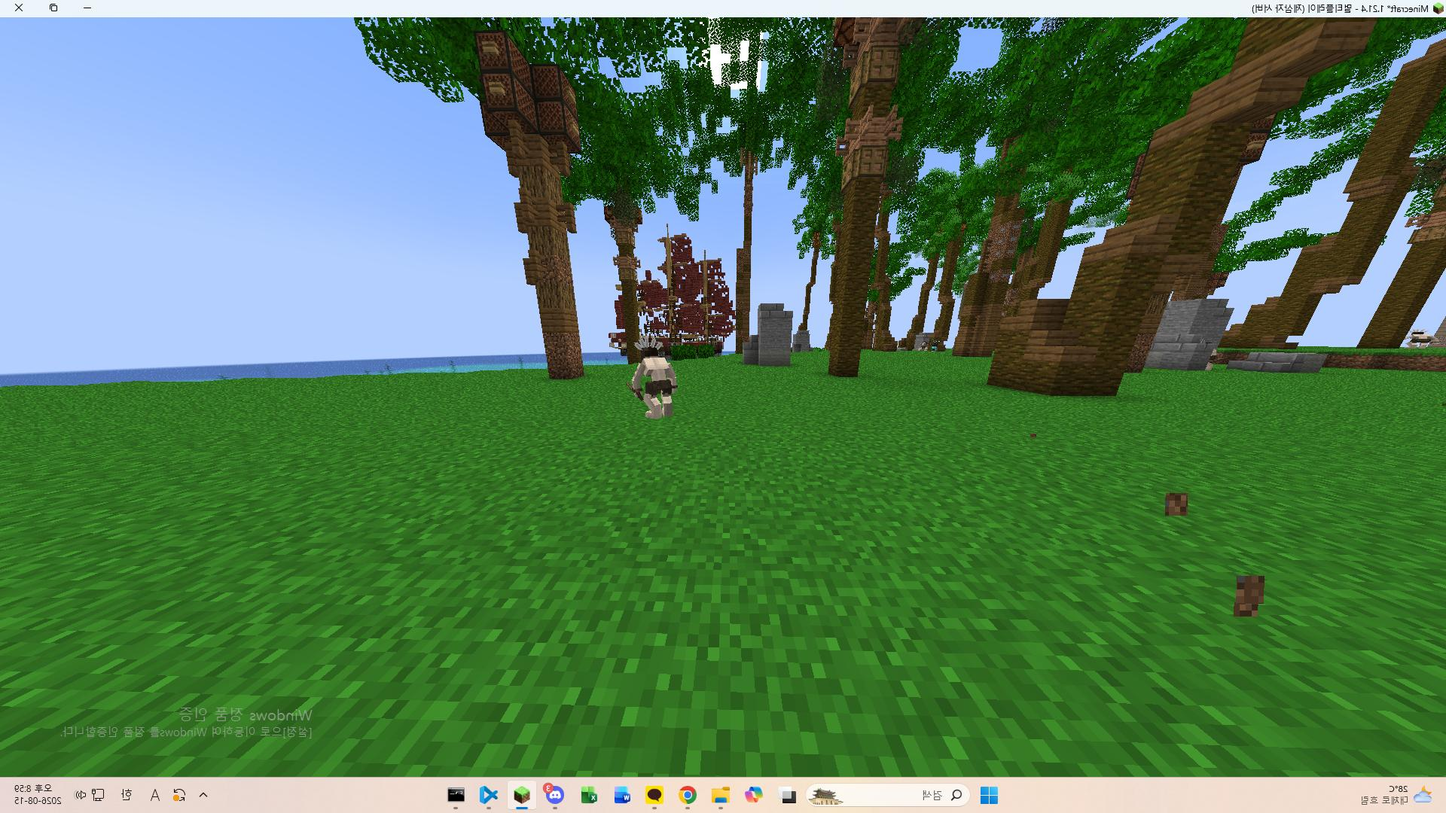bow_indian: (605, 332, 693, 423)
